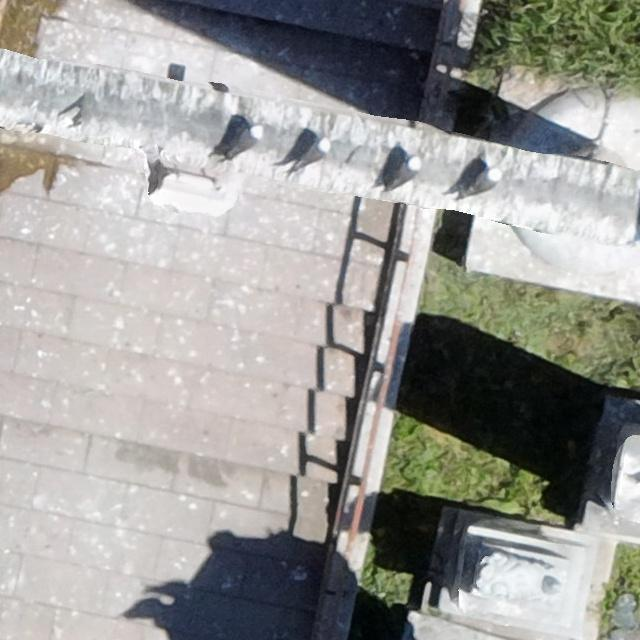umineko: (384, 156, 420, 194), (227, 124, 265, 154), (298, 140, 329, 161), (472, 168, 498, 190)
